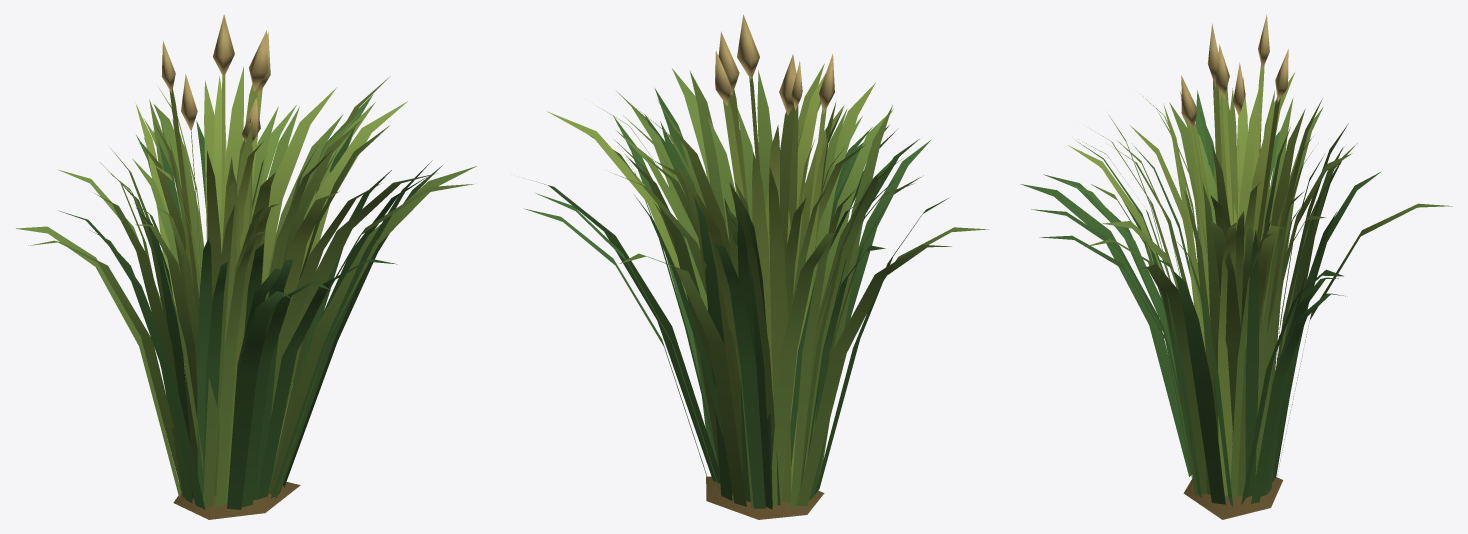
File: tall_grass_2.glb
3 renders of one model, left to right at view 1: azimuth 30°, elevation 25°; view 2: azimuth 150°, elevation 25°; view 3: azimuth 270°, elevation 25°, orthographic. The views are drawn at different scales.
Visible parts, largest first — view 1: tall_grass_2; view 2: tall_grass_2; view 3: tall_grass_2.
Part boxes in pixels (x1,y1,x2,y2): tall_grass_2: (16,14,476,519); tall_grass_2: (524,14,989,519); tall_grass_2: (1020,14,1452,519).
Bounding box in the file's own units: 1.3 × 1.4 × 1.2.
Materials: 2 (2 with a texture image).
